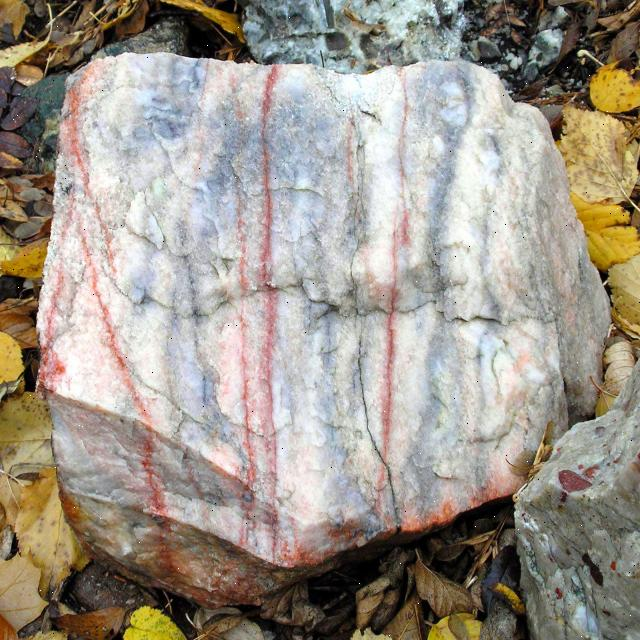Metamorphic: (41, 52, 604, 562)
